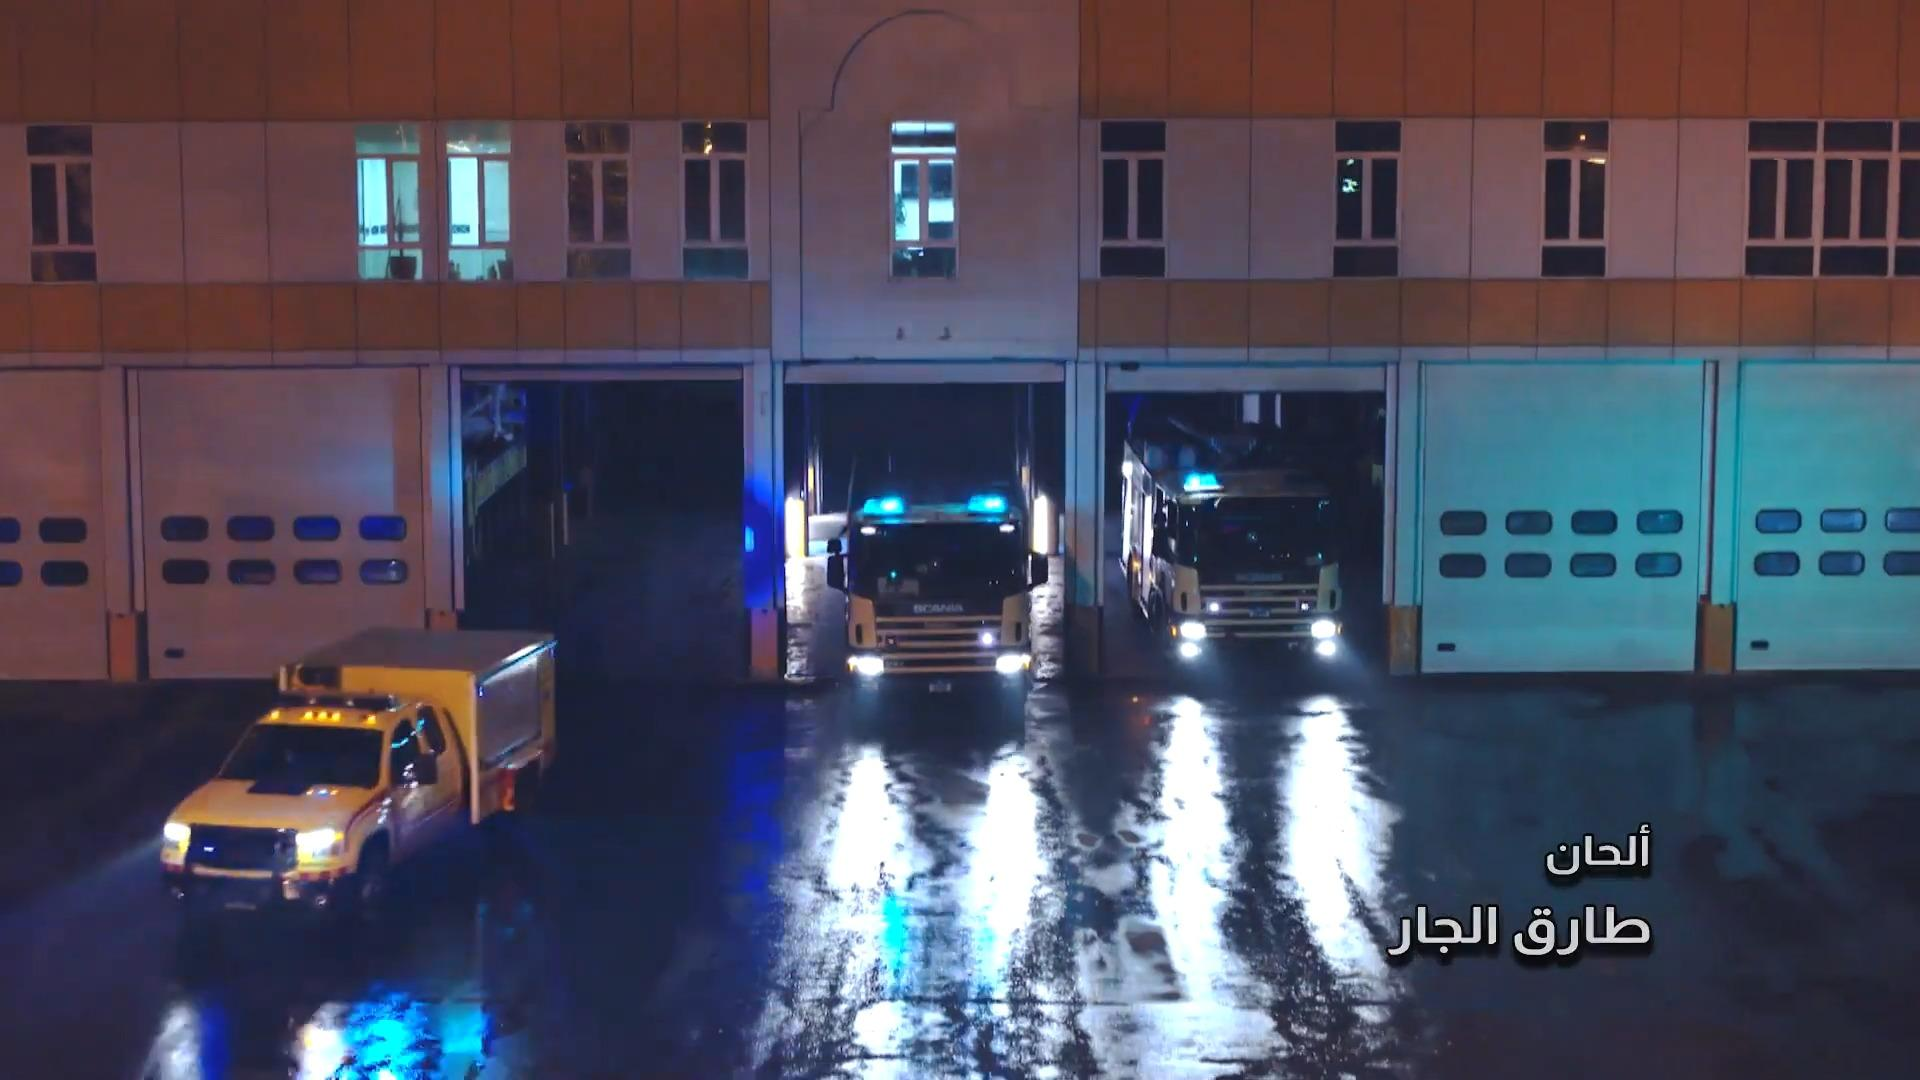firetruck_off: (165, 630, 555, 940)
firetruck_on: (825, 440, 1047, 729), (1118, 417, 1345, 694)
